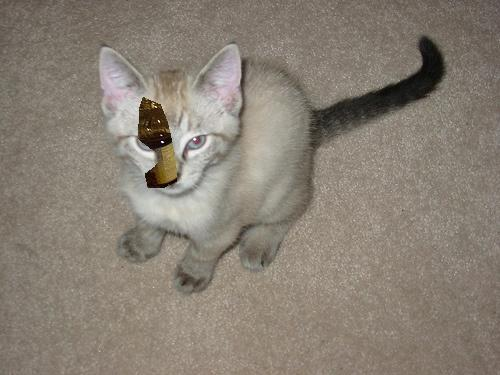tampered: (139, 98, 177, 188)
